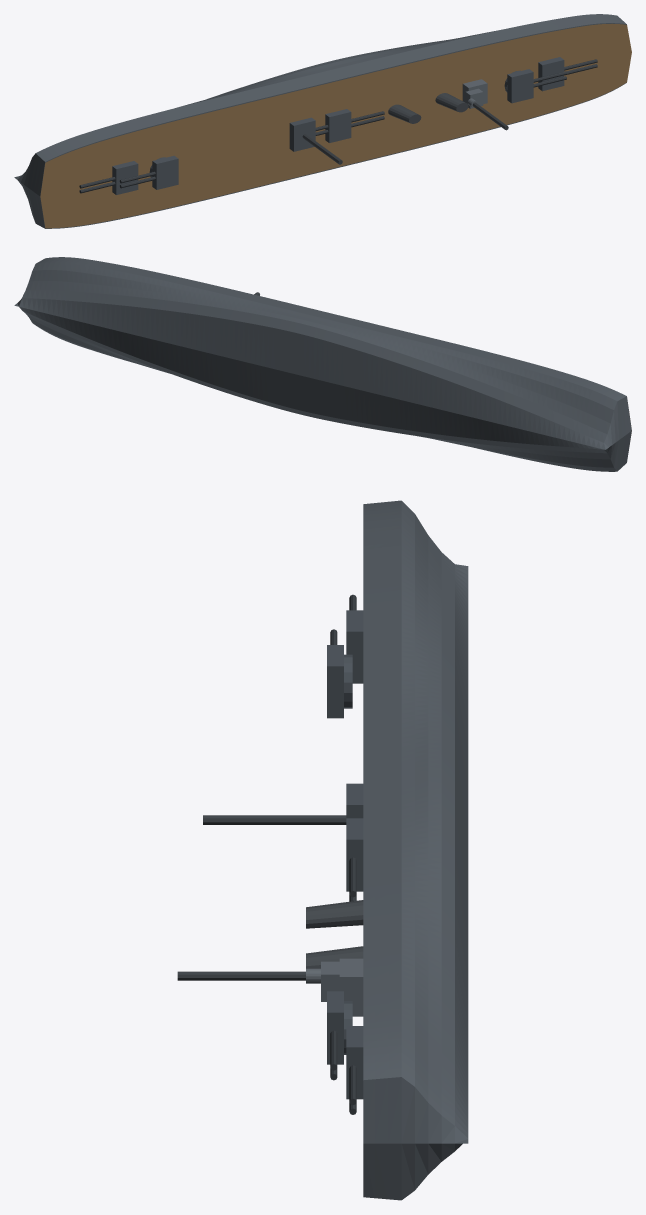
The model's file is 扶桑型.obj.
3 views of the same model, one above another, from view 1: azimuth 30°, elevation 25°; view 2: azimuth 150°, elevation 25°; view 3: azimuth 270°, elevation 25° (orthographic). The views are drawn at different scales.
Bounding box in the file's own units: 195 × 29.31 × 41.5.
